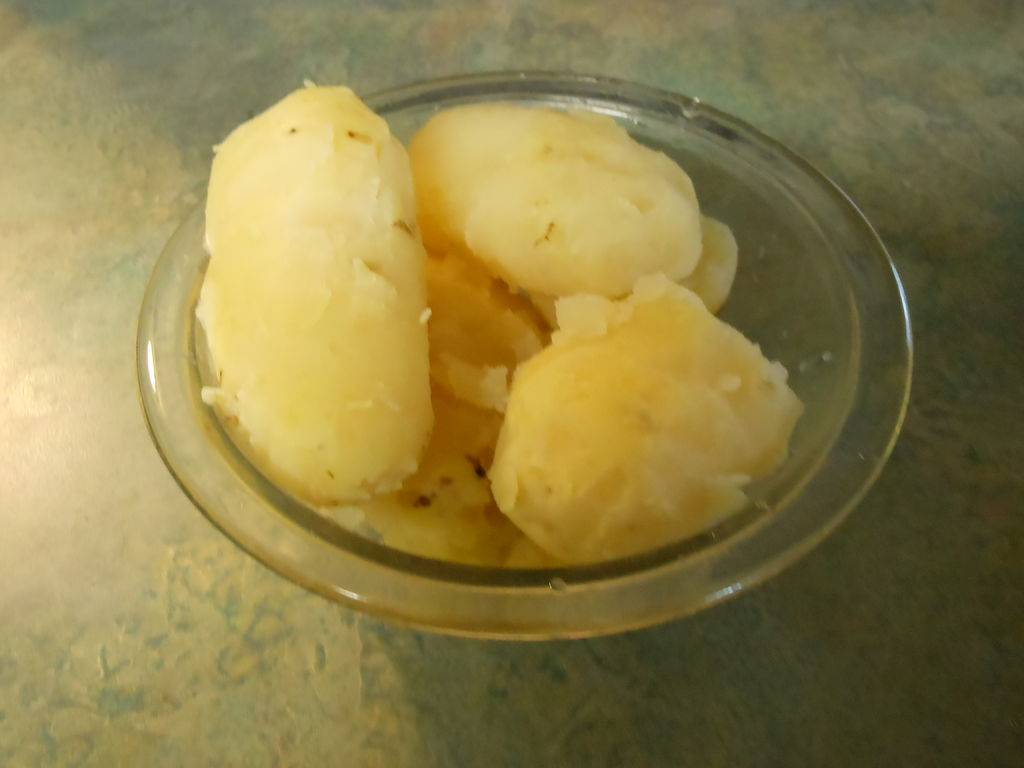boiled potatoes: (275, 117, 755, 481)
